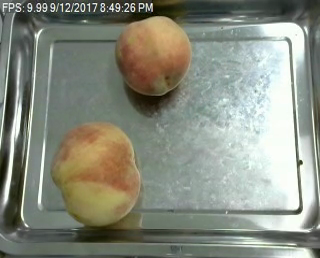Peach: (53, 123, 144, 227), (115, 15, 192, 96)
